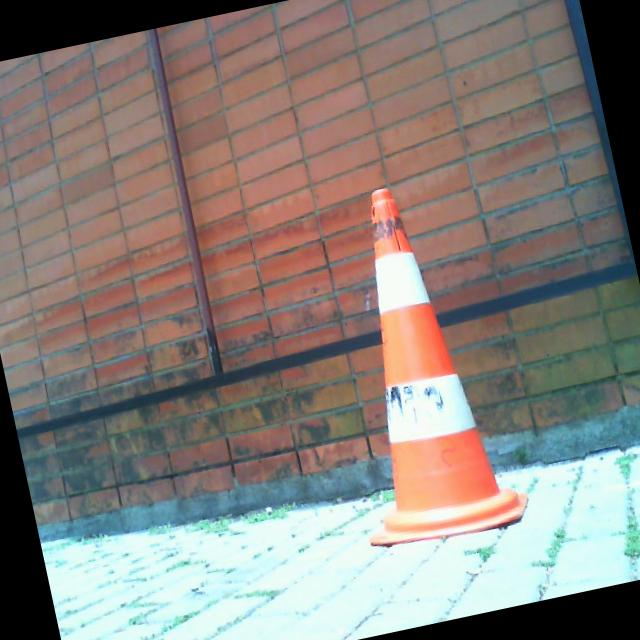cone: (300, 172, 532, 554)
